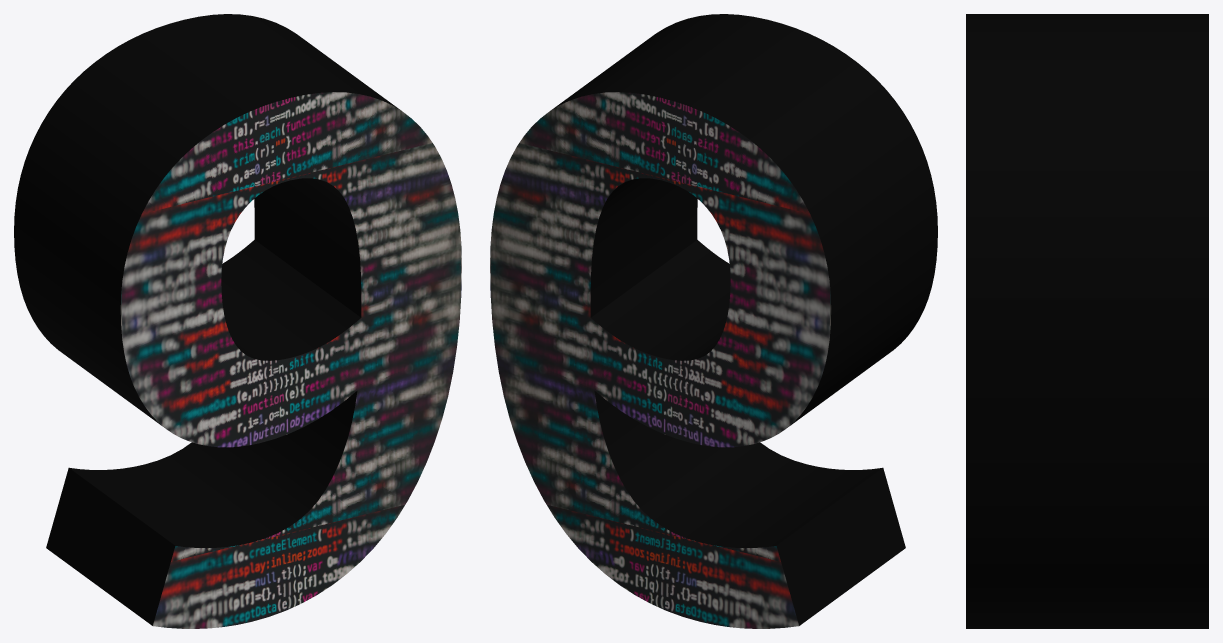
The model's file is nro9.FBX.
3 views of the same model, side by side, from view 1: azimuth 30°, elevation 25°; view 2: azimuth 150°, elevation 25°; view 3: azimuth 270°, elevation 25° (orthographic). The views are drawn at different scales.
Visible parts, largest first — view 1: Text006; view 2: Text006; view 3: Text006.
Part boxes in pixels (bbox=[...]): Text006: bbox=[14, 14, 461, 628]; Text006: bbox=[490, 14, 937, 628]; Text006: bbox=[966, 14, 1208, 628].
Size of the model in its own units: 21.81 by 31.42 by 11.81.
